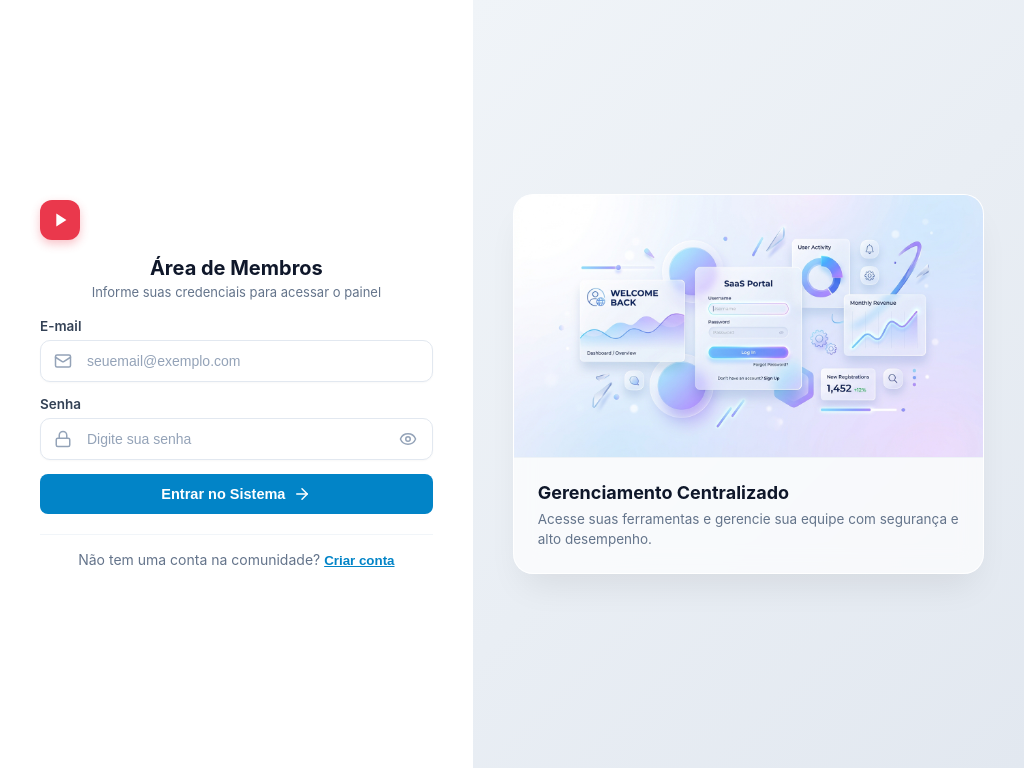
Login Component › hides right side banner and renders centered register container when in registration mode
Expected: the element with class "login-image-side" is shown, 473,0 -> 1023,767
Note: Clica para ir ao cadastro
Click the button with test id "go-to-register-btn".
click(359, 560)  # box 324,553 -> 394,568
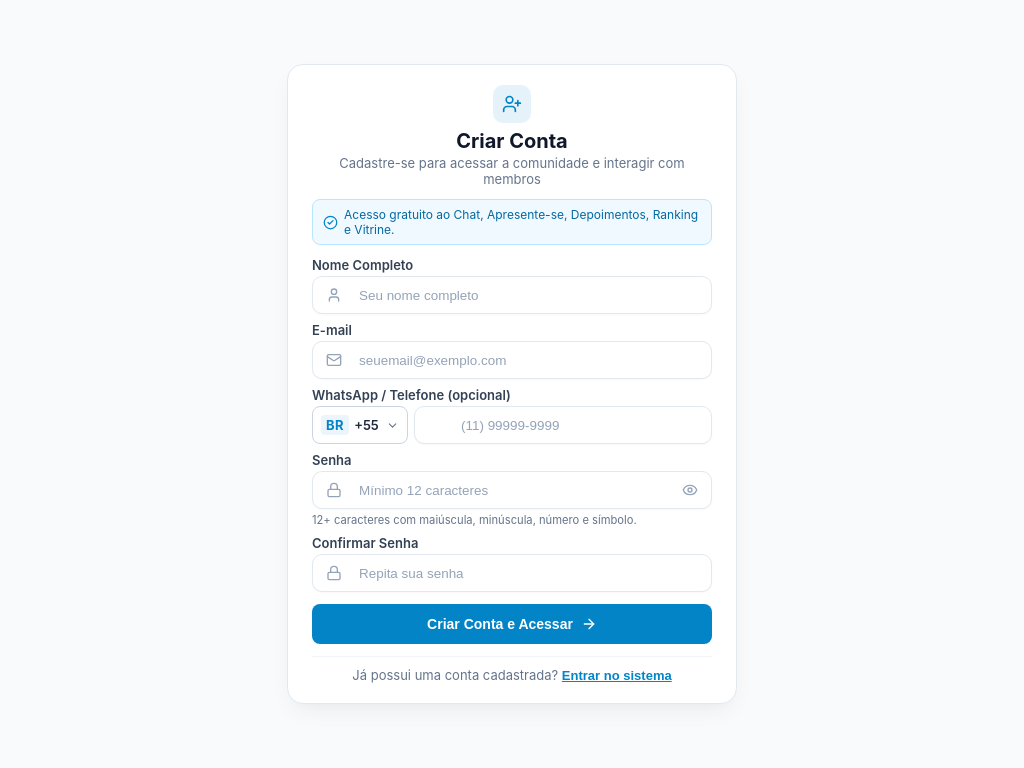
Now the element with class "login-image-side" is gone
Now the element with class "register-page-container" is shown
Now the element with test id "public-register-container" is shown, box 287,64 -> 737,704
